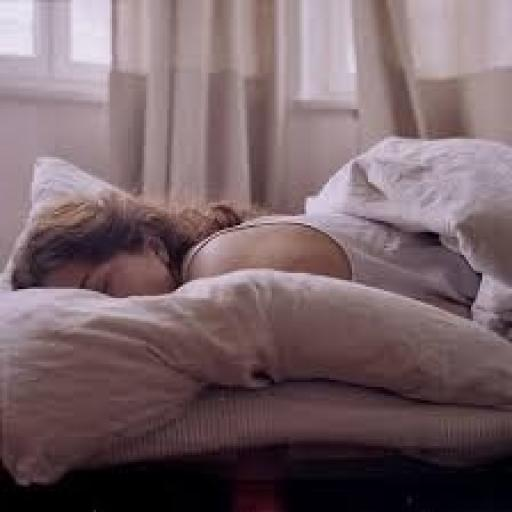sleeping: (27, 68, 512, 510)
